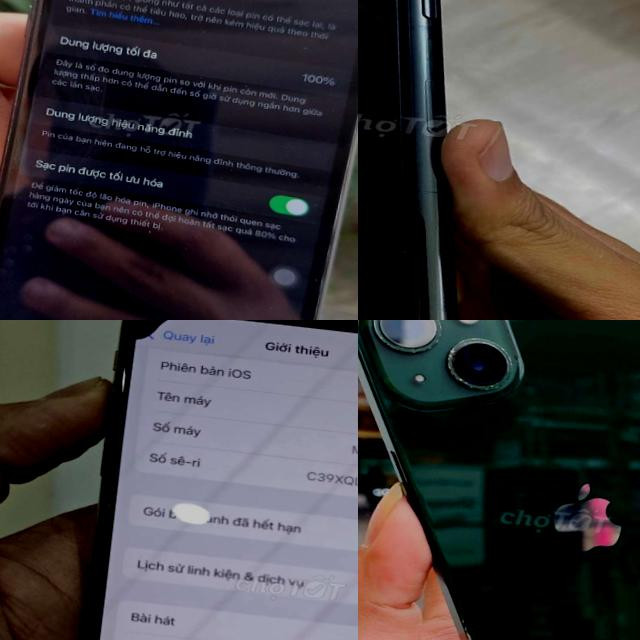gen_11: (358, 0, 518, 320)
gen_12_13: (358, 320, 640, 640)
gen_7_8: (0, 0, 358, 320)
gen_x_xs: (51, 320, 358, 640)
screen_defect: (107, 320, 212, 359)
